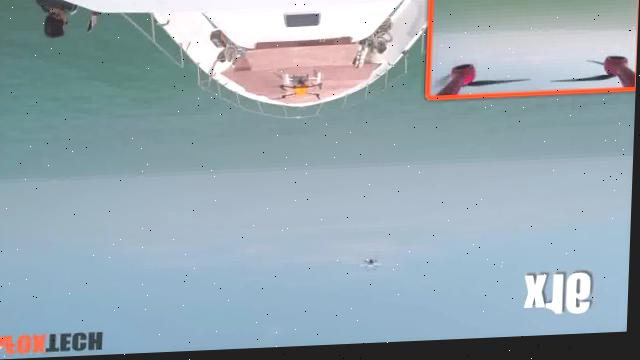drone: (267, 74, 333, 111), (359, 263, 384, 279)
